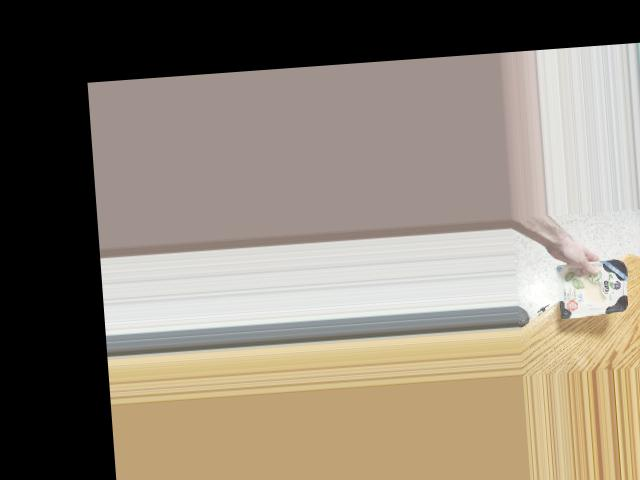cheese: (540, 255, 640, 319)
